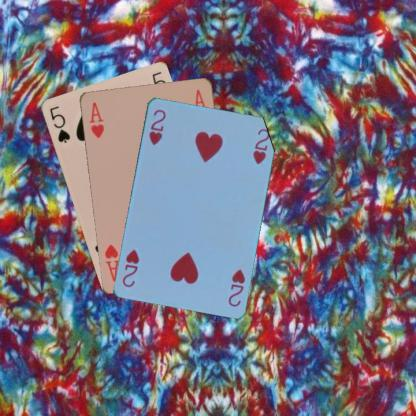2h: (225, 266, 246, 308), (146, 106, 167, 146)
5s: (46, 103, 72, 144)
Ah: (86, 100, 105, 140)
